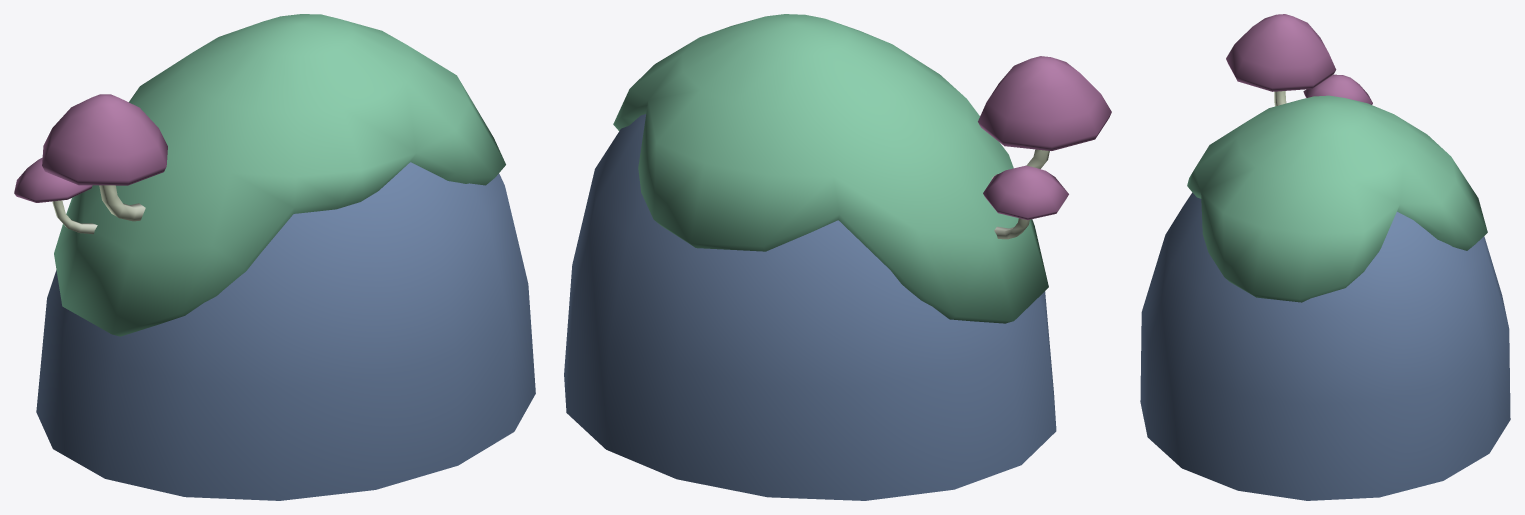
Rendered from obstacle-forest_rock_H1.glb.
3 views of the same model, side by side, from view 1: azimuth 30°, elevation 25°; view 2: azimuth 150°, elevation 25°; view 3: azimuth 270°, elevation 25° (orthographic). The views are drawn at different scales.
Visible parts, largest first — view 1: obstacle-forest_rock_H1; view 2: obstacle-forest_rock_H1; view 3: obstacle-forest_rock_H1.
Boxes of the visible parts, x1,y1,x2,y2 form: obstacle-forest_rock_H1: (14,14,535,500); obstacle-forest_rock_H1: (564,14,1111,500); obstacle-forest_rock_H1: (1140,14,1510,500).
Bounding box in the file's own units: 2.96 × 2.17 × 2.34.
